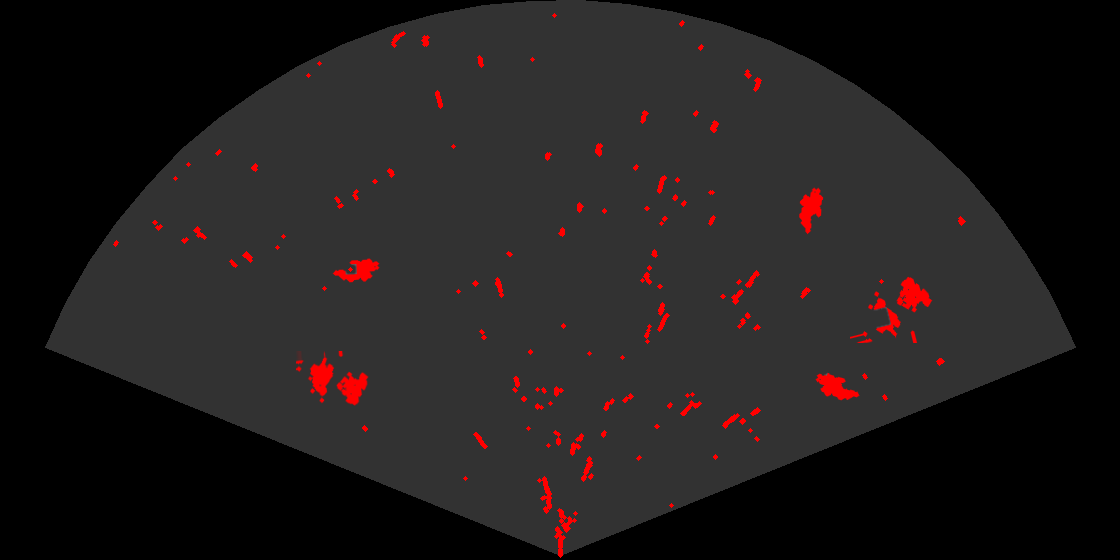AUV: (814, 371, 861, 402), (798, 186, 825, 236), (331, 257, 381, 284)
cage: (850, 275, 934, 343), (296, 351, 370, 407)
